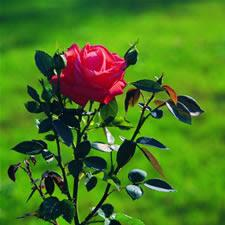Rose: (55, 36, 126, 112)
